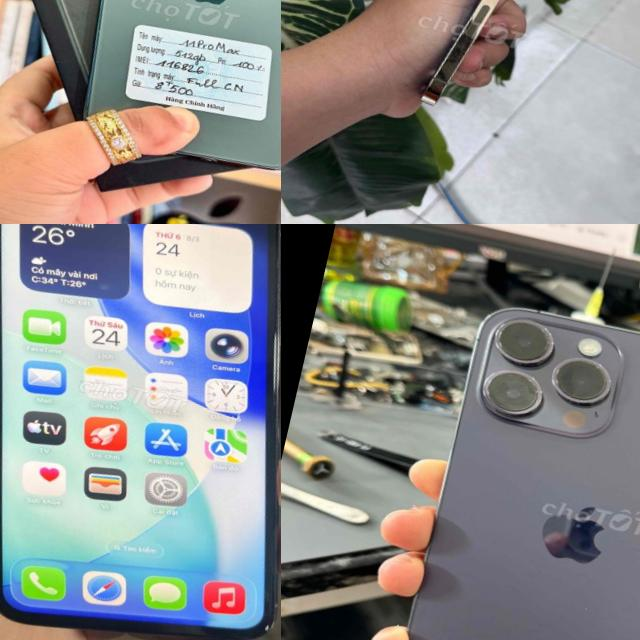gen_11: (0, 224, 281, 640), (47, 0, 281, 186)
gen_14: (367, 283, 640, 640)
gen_15: (414, 0, 582, 132)
scratch: (517, 312, 573, 376), (514, 364, 574, 410), (258, 325, 281, 394)
